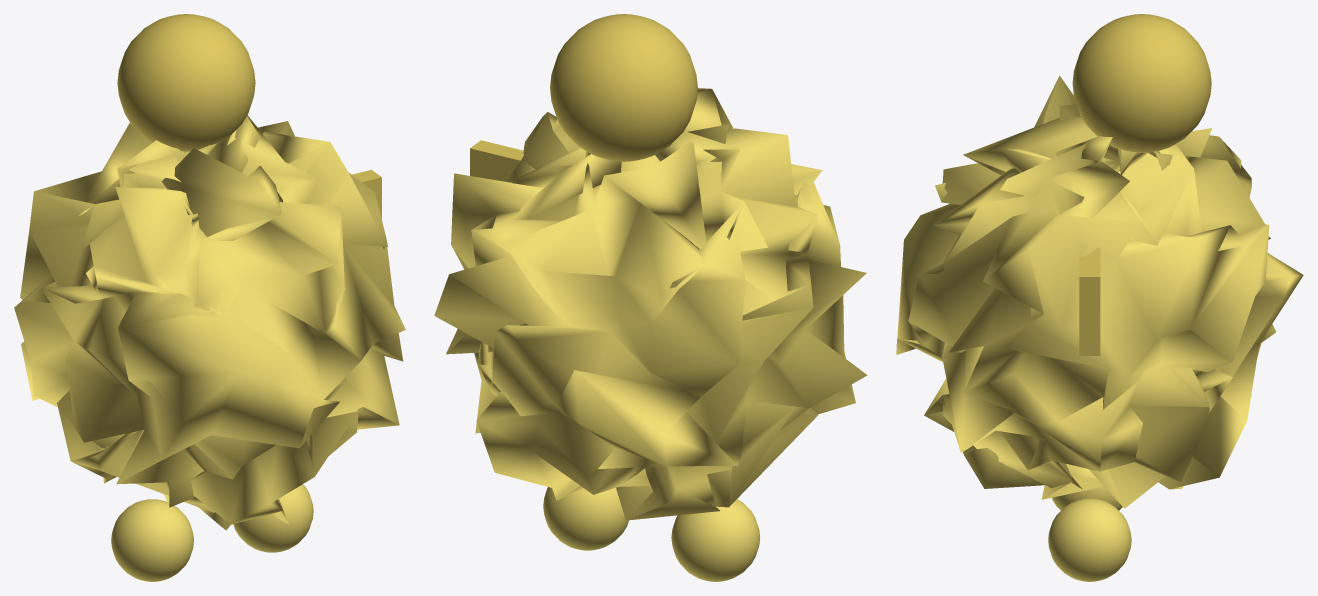
Rendered from clay_dancing_duck.glb.
3 renders of one model, left to right at view 1: azimuth 30°, elevation 25°; view 2: azimuth 150°, elevation 25°; view 3: azimuth 270°, elevation 25°, orthographic. The views are drawn at different scales.
Parts seen in each view (by area): view 1: leg.001; view 2: leg.001; view 3: leg.001.
Part boxes in pixels (x1,y1,x2,y2): leg.001: [14, 14, 405, 581]; leg.001: [434, 14, 867, 581]; leg.001: [896, 14, 1303, 581].
Size of the model in its own units: 1.23 by 1.84 by 1.29.
